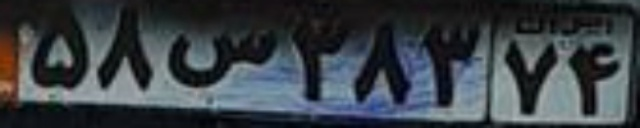3: (287, 17, 357, 101), (421, 22, 480, 107)
4: (565, 43, 621, 117)
5: (29, 2, 90, 88)
7: (501, 42, 559, 115)
8: (99, 2, 155, 92), (357, 20, 415, 105)
sin: (165, 30, 280, 88)
